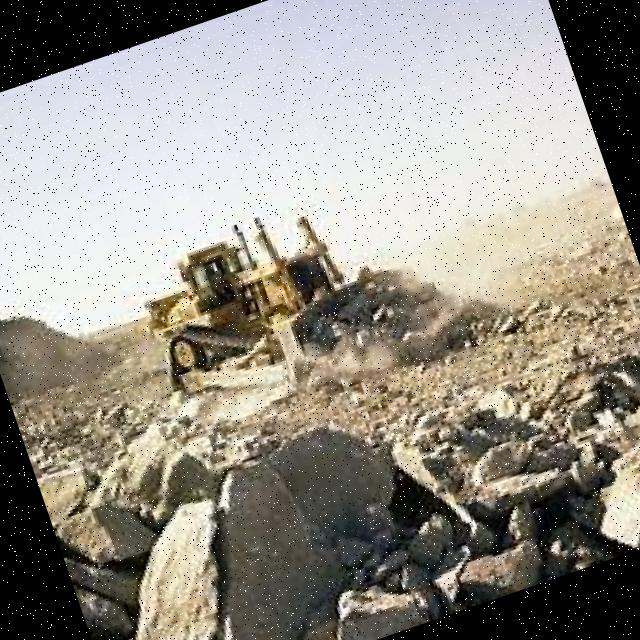Bulldozer: (124, 182, 400, 426)
